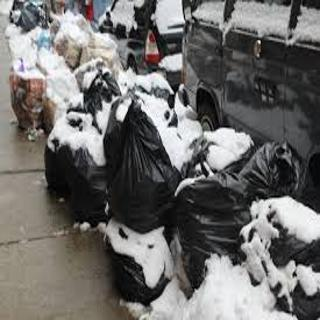Garbage: (96, 93, 181, 228), (174, 172, 252, 296), (41, 107, 113, 222), (95, 214, 182, 308), (242, 194, 319, 270)
